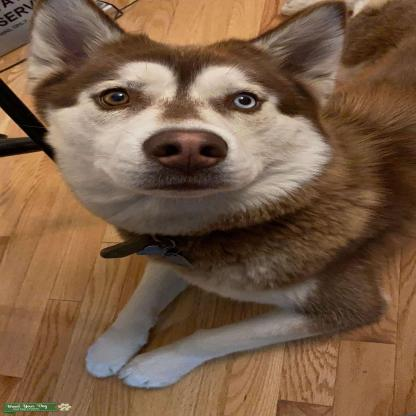dog: (31, 6, 416, 387)
